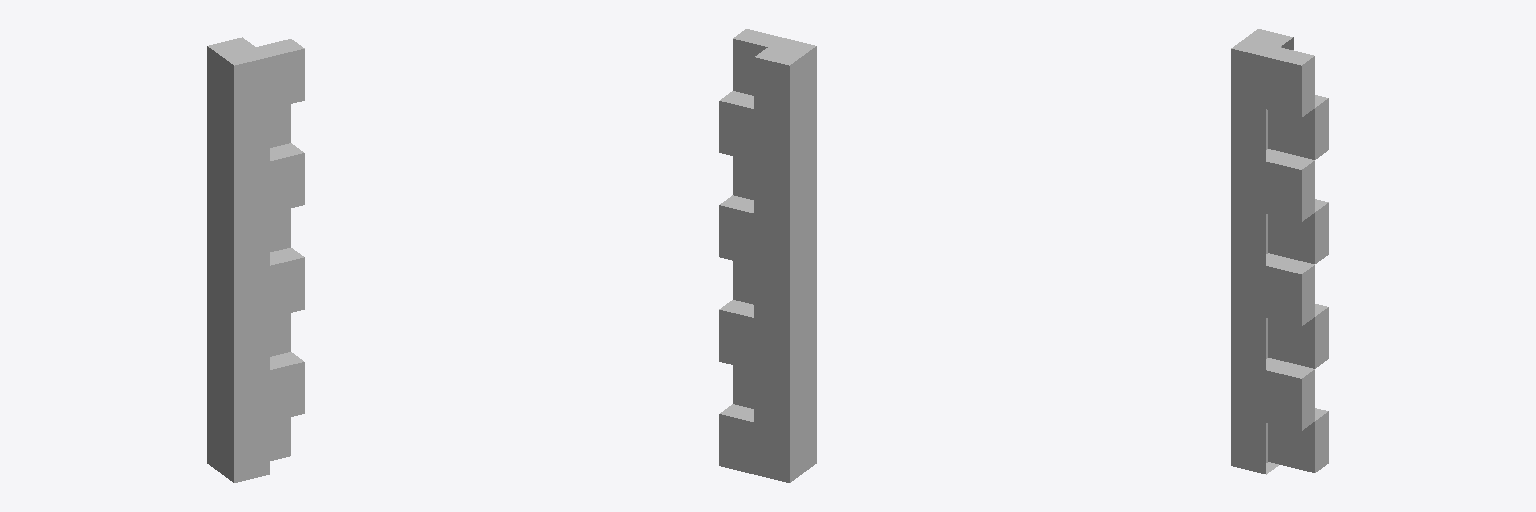
File: Side.obj
3 views of the same model, side by side, from view 1: azimuth 30°, elevation 25°; view 2: azimuth 150°, elevation 25°; view 3: azimuth 330°, elevation 25° (orthographic).
Parts seen in each view (by area): view 1: Side; view 2: Side; view 3: Side.
Boxes of the visible parts, x1=… form: Side: x1=207, y1=37, x2=304, y2=482; Side: x1=719, y1=29, x2=816, y2=482; Side: x1=1231, y1=29, x2=1328, y2=474.
Bounding box in the file's own units: 0.75 × 4.25 × 0.5.